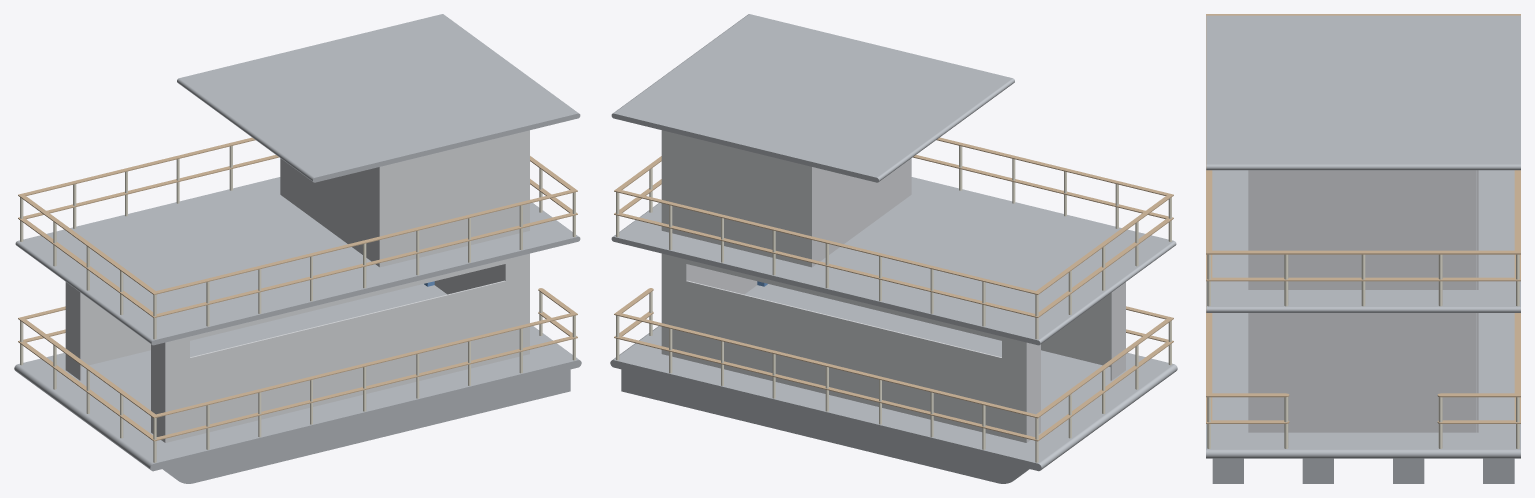
The model's file is house-boat.view.glb.
3 renders of one model, left to right at view 1: azimuth 30°, elevation 25°; view 2: azimuth 150°, elevation 25°; view 3: azimuth 270°, elevation 25°, orthographic. The views are drawn at different scales.
Visible parts, largest first — view 1: Сталь, Алюминий, ДСП K530 HU 18мм Дуб Хадсон Амаретто 30л/пал KSPL, Пластик ваниль; view 2: Сталь, Алюминий, ДСП K530 HU 18мм Дуб Хадсон Амаретто 30л/пал KSPL, Пластик ваниль; view 3: Сталь, Алюминий, ДСП K530 HU 18мм Дуб Хадсон Амаретто 30л/пал KSPL, Пластик ваниль.
Boxes of the visible parts, x1=… form: Сталь: x1=14, y1=14, x2=581, y2=483; Алюминий: x1=65, y1=130, x2=529, y2=442; ДСП K530 HU 18мм Дуб Хадсон Амаретто 30л/пал KSPL: x1=18, y1=137, x2=577, y2=441; Пластик ваниль: x1=20, y1=146, x2=575, y2=462; Сталь: x1=610, y1=14, x2=1177, y2=483; Алюминий: x1=661, y1=130, x2=1125, y2=442; ДСП K530 HU 18мм Дуб Хадсон Амаретто 30л/пал KSPL: x1=614, y1=137, x2=1173, y2=441; Пластик ваниль: x1=616, y1=146, x2=1171, y2=462; Сталь: x1=1206, y1=15, x2=1520, y2=483; Алюминий: x1=1248, y1=170, x2=1478, y2=432; ДСП K530 HU 18мм Дуб Хадсон Амаретто 30л/пал KSPL: x1=1206, y1=14, x2=1520, y2=423; Пластик ваниль: x1=1207, y1=254, x2=1519, y2=448.
Size of the model in its own units: 9.15 by 5.65 by 5.
